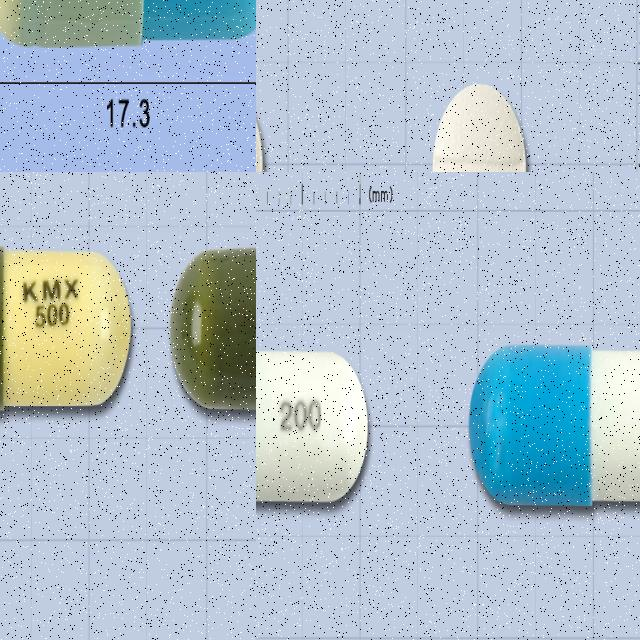Kymoxin Cap-500mg: (0, 247, 131, 412), (170, 248, 256, 412)
Reyon Clarithromycin Tab: (432, 81, 526, 172)
Vancozin Cap-250mg: (0, 0, 256, 46)
Viread Tab: (469, 342, 640, 509), (256, 341, 369, 510)
